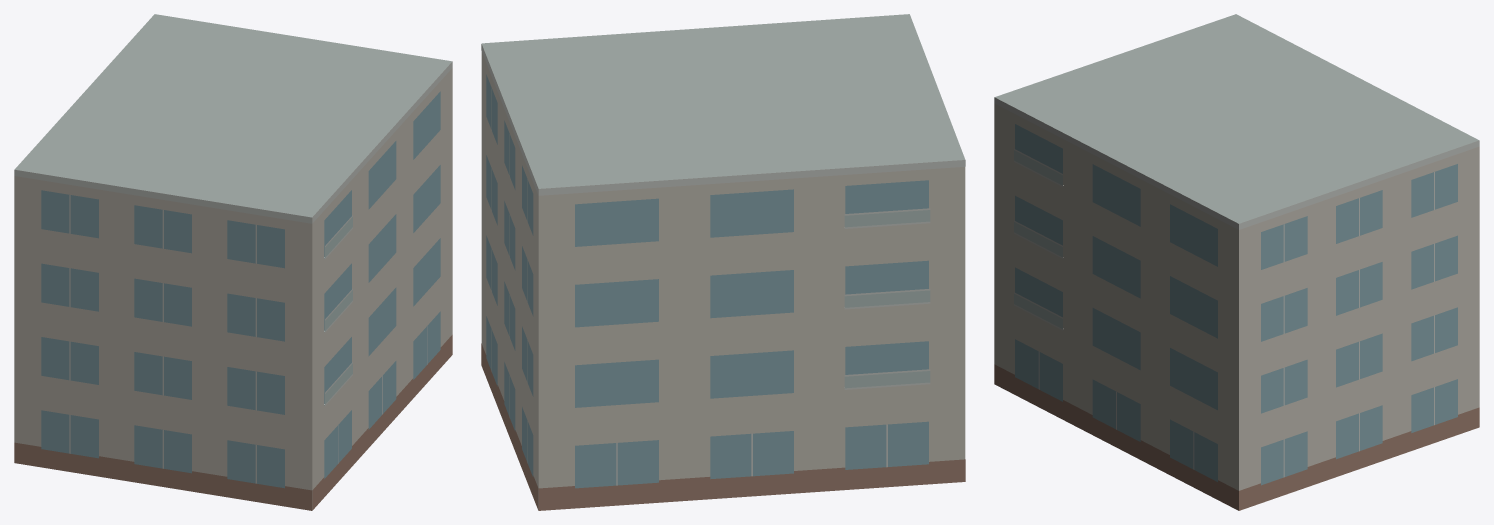
Rendered from survey-upis-32831053.glb.
3 views of the same model, side by side, from view 1: azimuth 30°, elevation 25°; view 2: azimuth 150°, elevation 25°; view 3: azimuth 270°, elevation 25° (orthographic). The views are drawn at different scales.
Visible parts, largest first — view 1: survey-upis-32831053.tmp; view 2: survey-upis-32831053.tmp; view 3: survey-upis-32831053.tmp.
Part boxes in pixels (x1,y1,x2,y2): survey-upis-32831053.tmp: (14, 14, 452, 510); survey-upis-32831053.tmp: (481, 14, 965, 510); survey-upis-32831053.tmp: (994, 14, 1479, 510).
Bounding box in the file's own units: 17.89 × 11.4 × 17.47.
